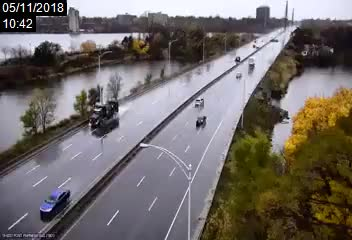personal_car: (40, 188, 70, 219), (195, 116, 206, 127), (194, 96, 204, 108), (235, 71, 242, 79), (233, 55, 240, 62)
truck: (88, 99, 119, 129)
